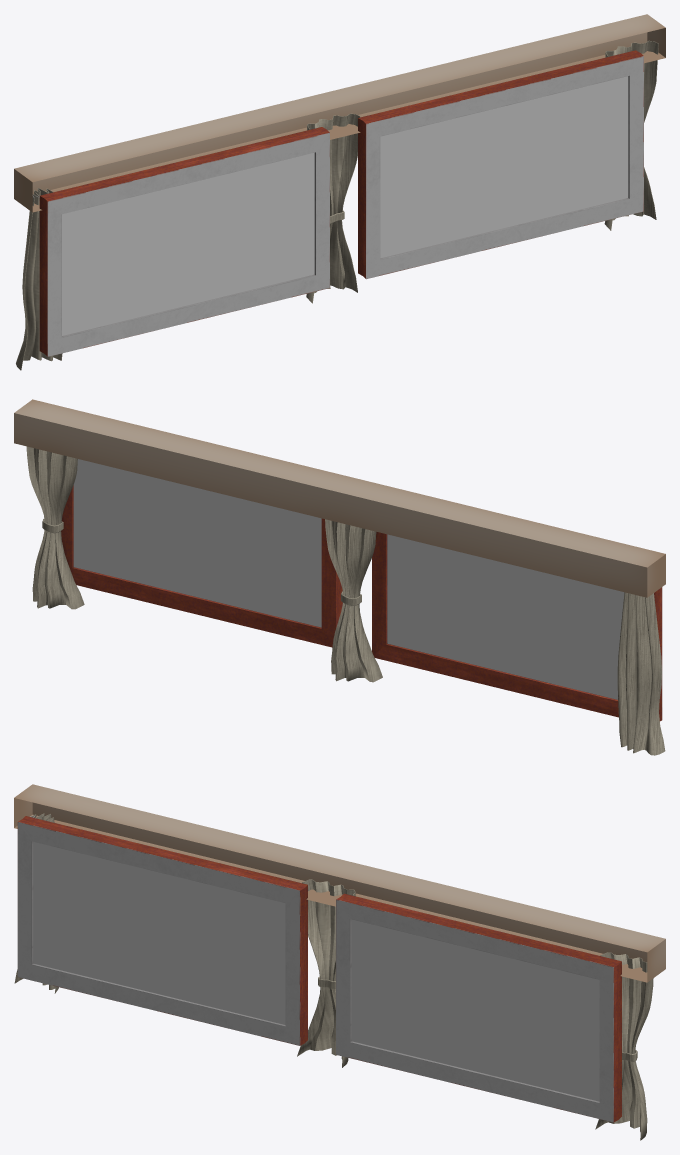
Rendered from SM_Bed_Window.fbx.
3 renders of one model, top to bottom at view 1: azimuth 30°, elevation 25°; view 2: azimuth 150°, elevation 25°; view 3: azimuth 330°, elevation 25°, orthographic.
Parts seen in each view (by area): view 1: SM_Bed_Window; view 2: SM_Bed_Window; view 3: SM_Bed_Window.
Part boxes in pixels (<box>): SM_Bed_Window: <box>14,14,665,370</box>; SM_Bed_Window: <box>14,399,665,755</box>; SM_Bed_Window: <box>14,784,665,1140</box>.
Size of the model in its own units: 345 by 22.8 by 99.03.
Materials: 2 (1 with a texture image).
